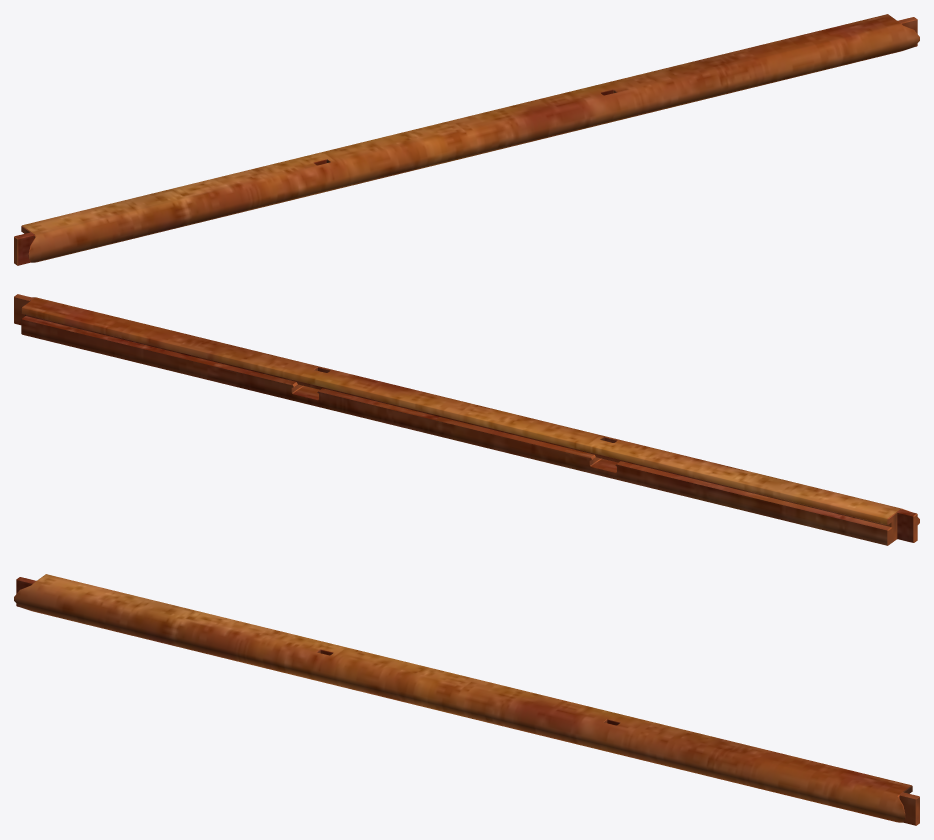
The model's file is SJ_J_dgdb_1_004.FBX.
3 views of the same model, one above another, from view 1: azimuth 30°, elevation 25°; view 2: azimuth 150°, elevation 25°; view 3: azimuth 330°, elevation 25° (orthographic).
Visible parts, largest first — view 1: SJ_J_dgdb_1_004; view 2: SJ_J_dgdb_1_004; view 3: SJ_J_dgdb_1_004.
Part boxes in pixels (<box>): SJ_J_dgdb_1_004: <box>14,14,919,265</box>; SJ_J_dgdb_1_004: <box>14,294,919,545</box>; SJ_J_dgdb_1_004: <box>14,574,919,825</box>.
Size of the model in its own units: 103 by 3 by 3.94.
2 materials, 2 textured.
